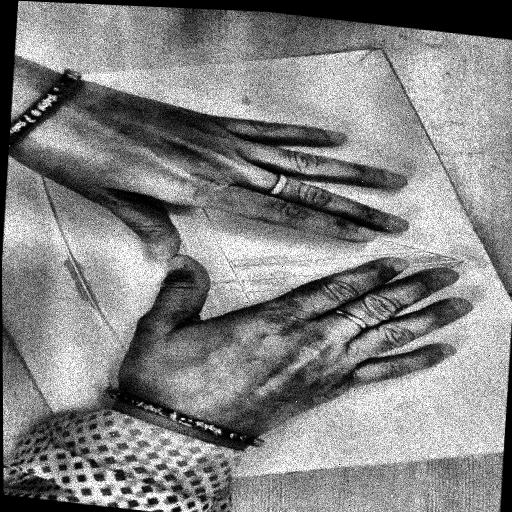boat: (8, 108, 512, 424)
bottom_left: (90, 474, 107, 486)
top_right: (373, 44, 389, 54)
